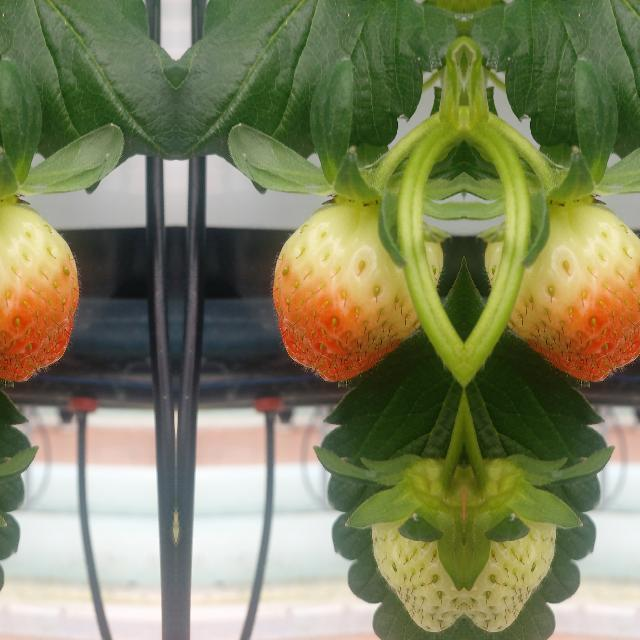Health_50: (272, 204, 442, 380), (484, 203, 640, 380), (0, 203, 78, 380)
